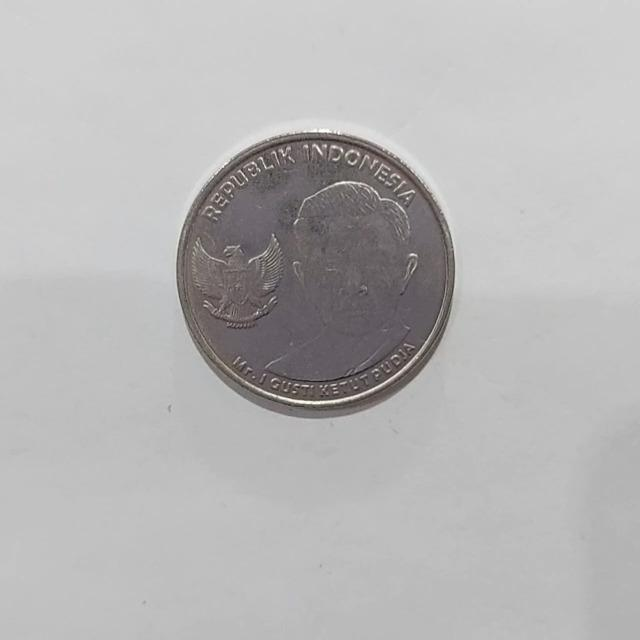Rp100: (173, 125, 457, 418)
